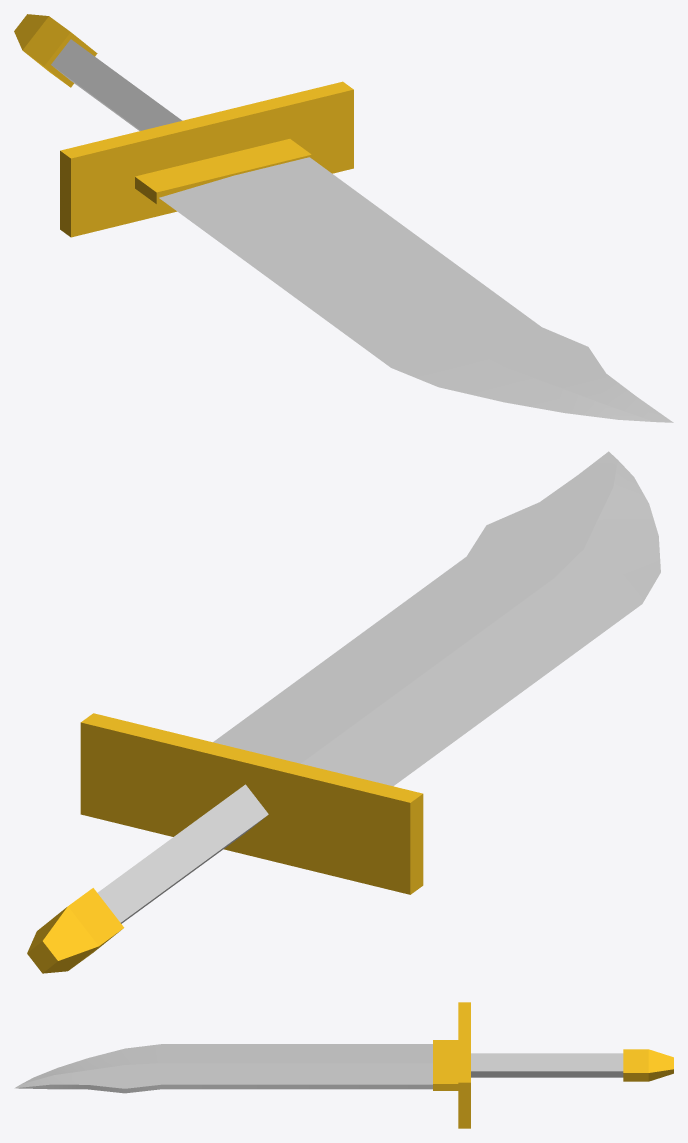
Rendered from Sword.FBX.
3 views of the same model, one above another, from view 1: azimuth 30°, elevation 25°; view 2: azimuth 150°, elevation 25°; view 3: azimuth 270°, elevation 25° (orthographic). The views are drawn at different scales.
Parts seen in each view (by area): view 1: weapon_Sword; view 2: weapon_Sword; view 3: weapon_Sword.
Boxes of the visible parts, left/top/right/bottom form: weapon_Sword: left=14, top=14, right=673, bottom=422; weapon_Sword: left=27, top=451, right=660, bottom=973; weapon_Sword: left=14, top=1002, right=673, bottom=1128.
Size of the model in its own units: 150 by 40 by 520.
